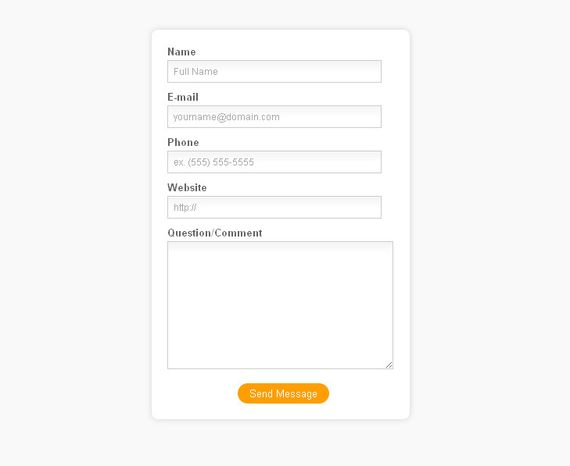_form_: (91, 5, 507, 421)
button: (236, 382, 331, 404)
field: (166, 239, 395, 372), (166, 58, 386, 85), (165, 149, 385, 175), (165, 103, 384, 129), (165, 194, 384, 220)
field_with_label: (163, 227, 398, 374), (164, 46, 388, 87), (162, 137, 388, 177), (164, 182, 387, 222), (163, 92, 388, 131)
